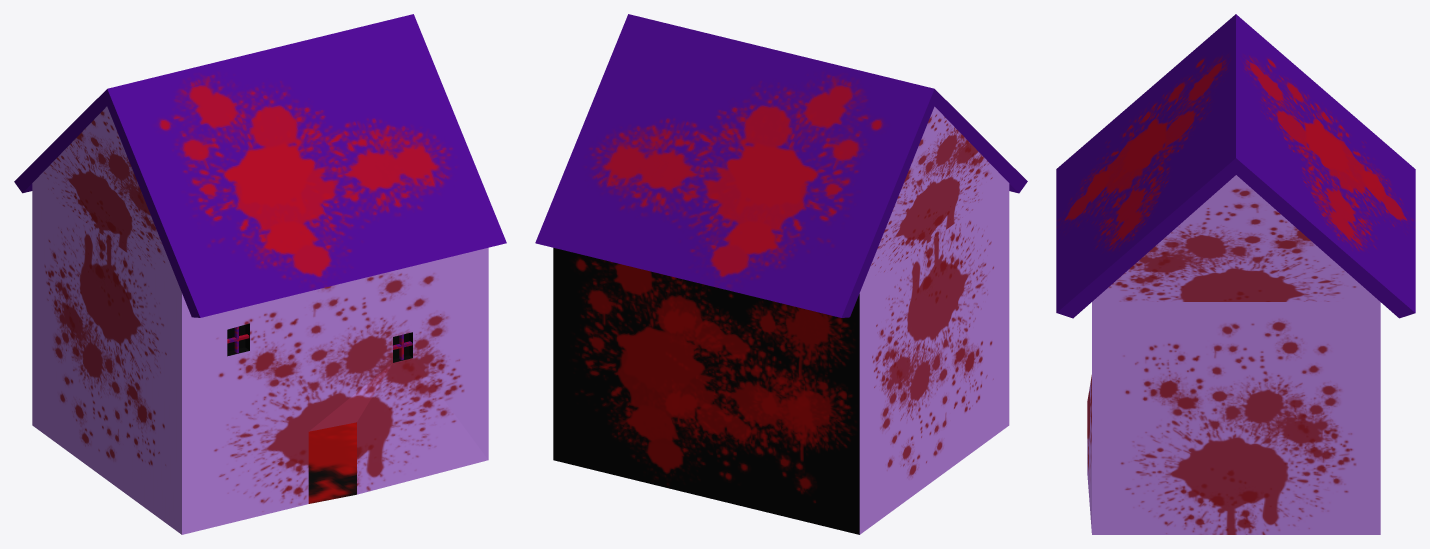
File: 血房子.fbx
3 renders of one model, left to right at view 1: azimuth 30°, elevation 25°; view 2: azimuth 150°, elevation 25°; view 3: azimuth 270°, elevation 25°, orthographic. The views are drawn at different scales.
Visible parts, largest first — view 1: Cube; view 2: Cube; view 3: Cube.
Boxes of the visible parts, x1,y1,x2,y2 form: Cube: (14,14,506,534); Cube: (535,14,1027,534); Cube: (1056,14,1415,534).
Size of the model in its own units: 398 by 419 by 485.
Materials: 3 (3 with a texture image).
